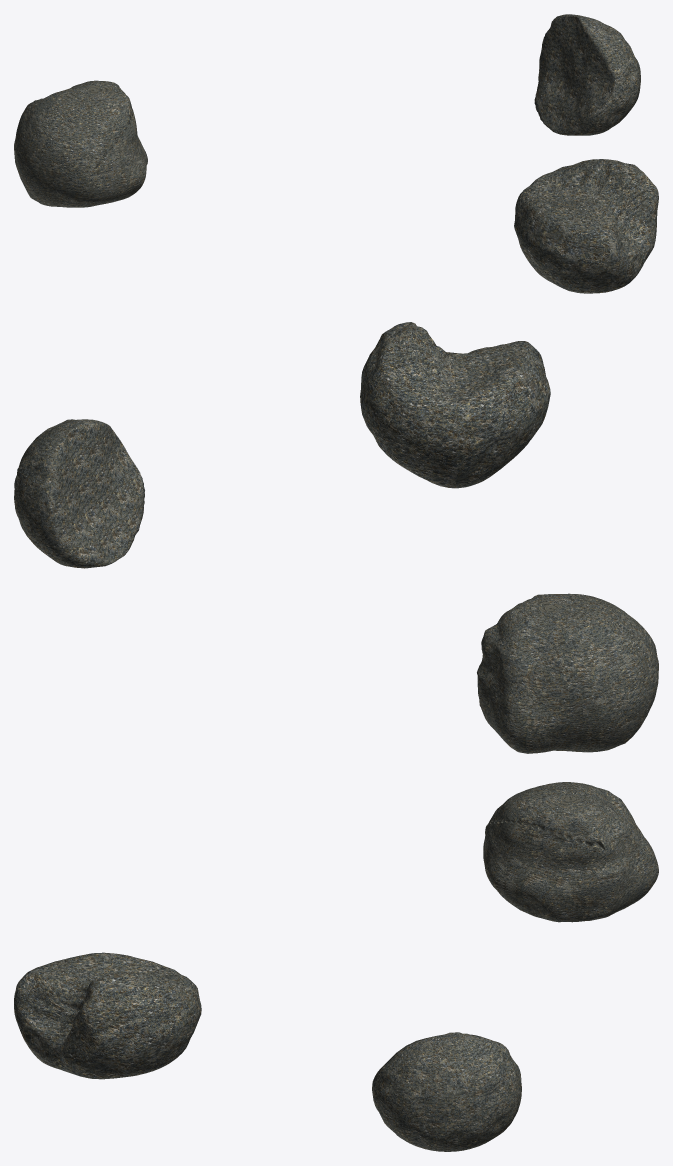
Rendered from preview.glb.
3 renders of one model, top to bottom at view 1: azimuth 30°, elevation 25°; view 2: azimuth 150°, elevation 25°; view 3: azimuth 270°, elevation 25°, orthographic. The views are drawn at different scales.
Visible parts, largest first — view 1: Material2; view 2: Material2; view 3: Material2.
Boxes of the visible parts, box(x1,y1,x2,y2) form: Material2: box(14, 14, 658, 293); Material2: box(14, 322, 658, 753); Material2: box(14, 782, 658, 1151).
Bounding box in the file's own units: 392 × 77.26 × 356.
1 material, 1 textured.
